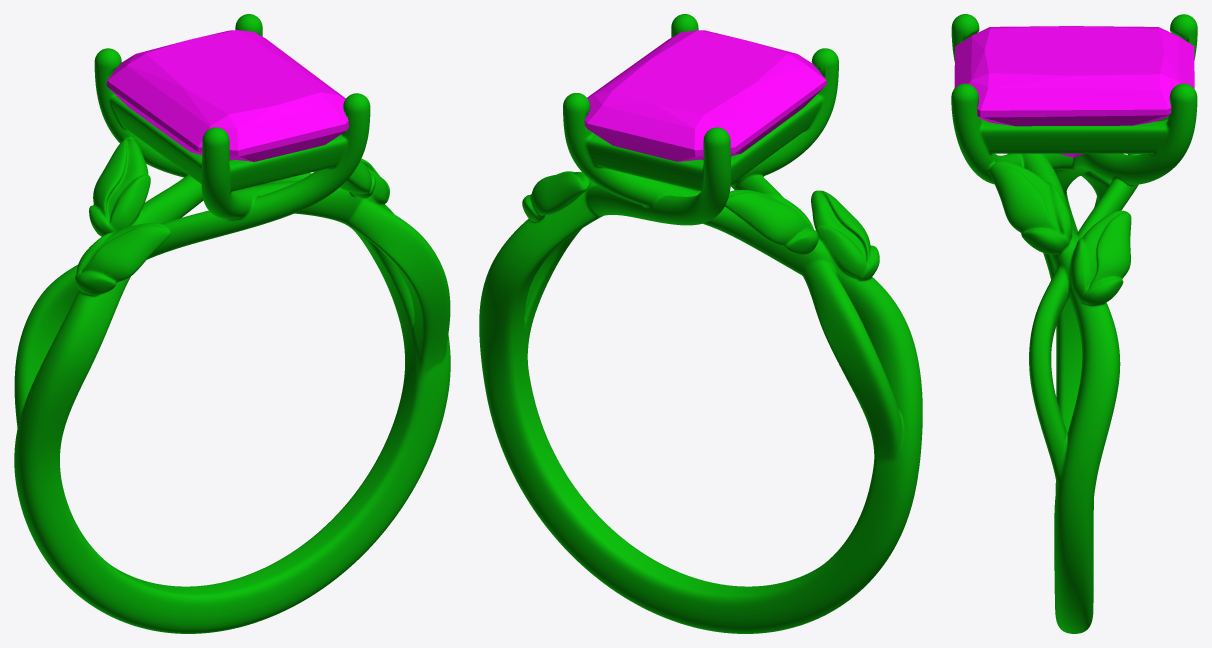
The model's file is BE113_RA_200ct_RENDER.glb.
The picture shows the model from 3 angles, left to right: view 1: azimuth 30°, elevation 25°; view 2: azimuth 150°, elevation 25°; view 3: azimuth 270°, elevation 25°; orthographic projection.
Parts seen in each view (by area): view 1: Metal 01, CS_Diamond_Radiant; view 2: Metal 01, CS_Diamond_Radiant; view 3: Metal 01, CS_Diamond_Radiant.
Boxes of the visible parts, x1,y1,x2,y2 form: Metal 01: (14,14,450,633); CS_Diamond_Radiant: (106,30,348,161); Metal 01: (479,14,922,633); CS_Diamond_Radiant: (584,30,826,161); Metal 01: (951,14,1197,633); CS_Diamond_Radiant: (954,26,1194,157).
Size of the model in its own units: 19.88 by 24.41 by 9.72.
